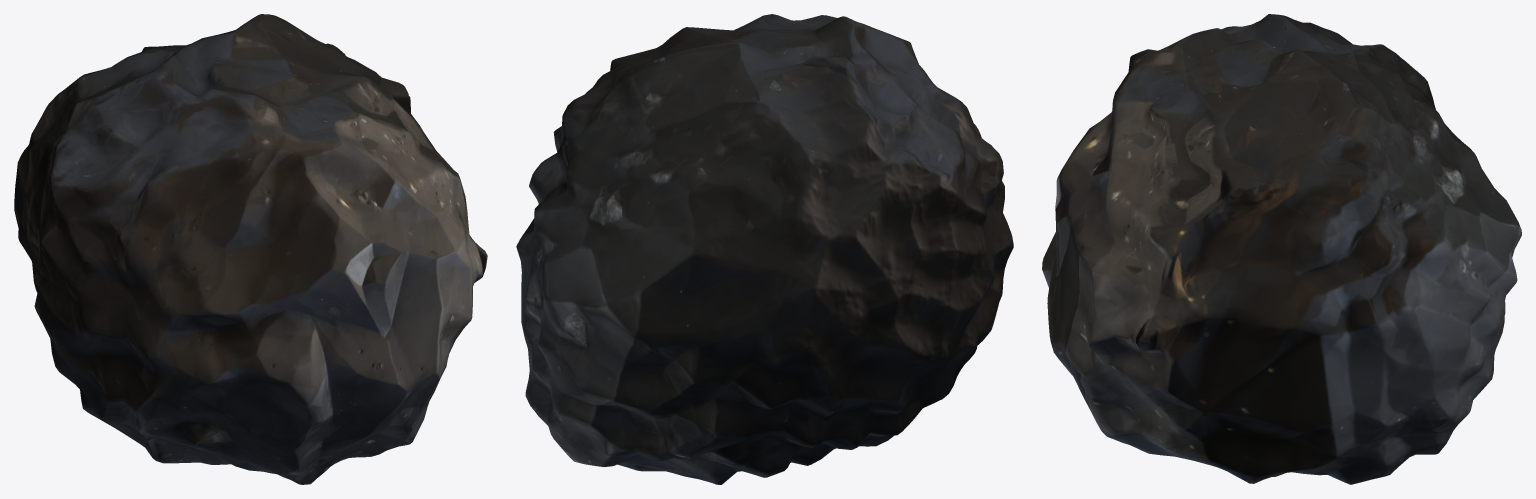
The model's file is asteroid4.glb.
The picture shows the model from 3 angles, left to right: view 1: azimuth 30°, elevation 25°; view 2: azimuth 150°, elevation 25°; view 3: azimuth 270°, elevation 25°; orthographic projection. The views are drawn at different scales.
Size of the model in its own units: 1.79 by 1.88 by 2.
Materials: 1 (1 with a texture image).
